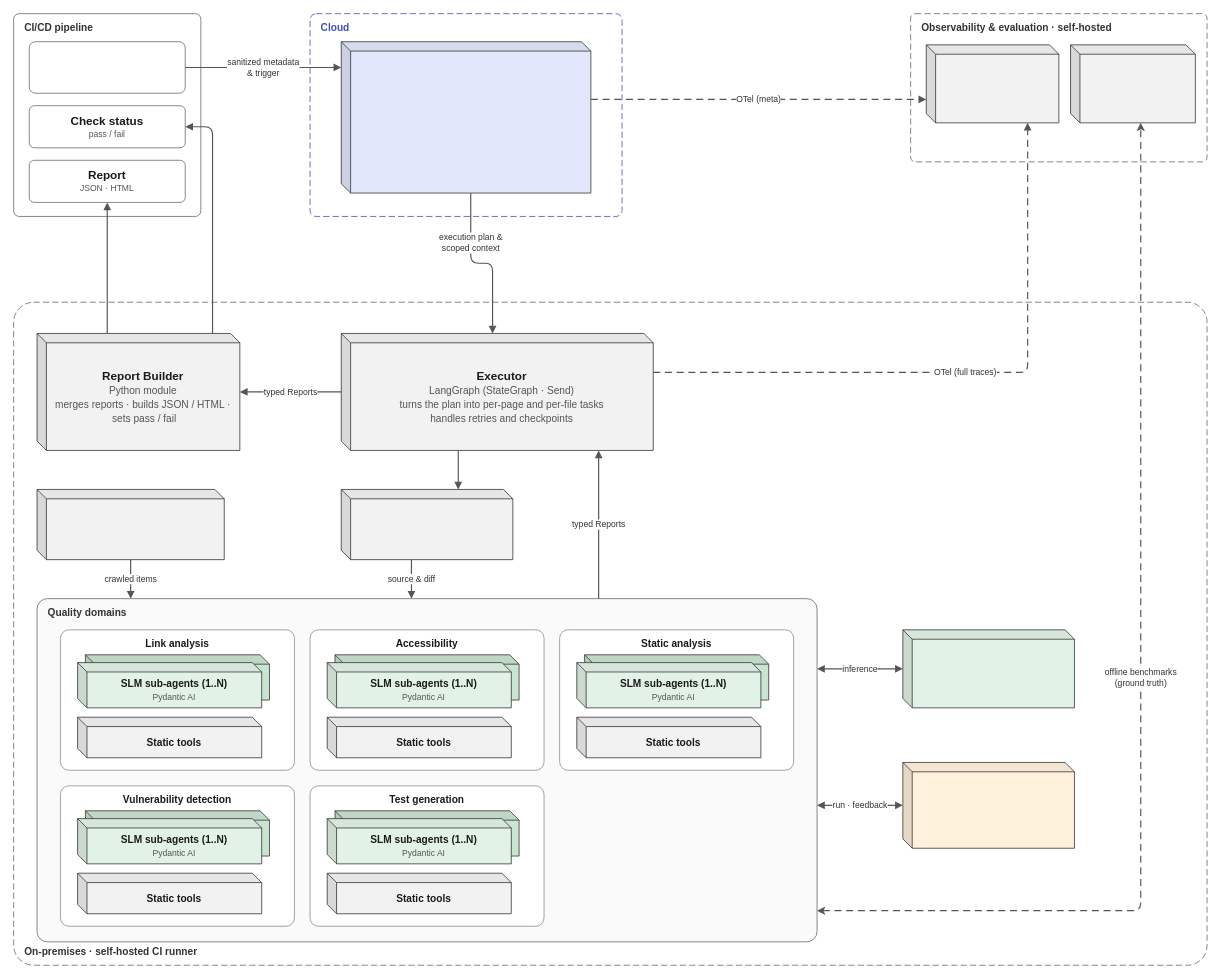
This 1221x979 diagram has some shape labels left out. Here are the shapes that lost their labels. From the top down, the centre of each, then its label:
At point (106, 67): "Triggers".
At point (992, 83): "Langfuse traces · latency".
At point (1132, 83): "DeepEval offline evals local judge".
At point (465, 117): "Coordinator LLM · Pydantic AI".
At point (130, 524): "Crawler Python module".
At point (426, 524): "Repo / Diff".
At point (988, 668): "Local SLMs Ollama · shared inference".
At point (988, 805): "Sandbox Docker / bubblewrap network-isolated".
